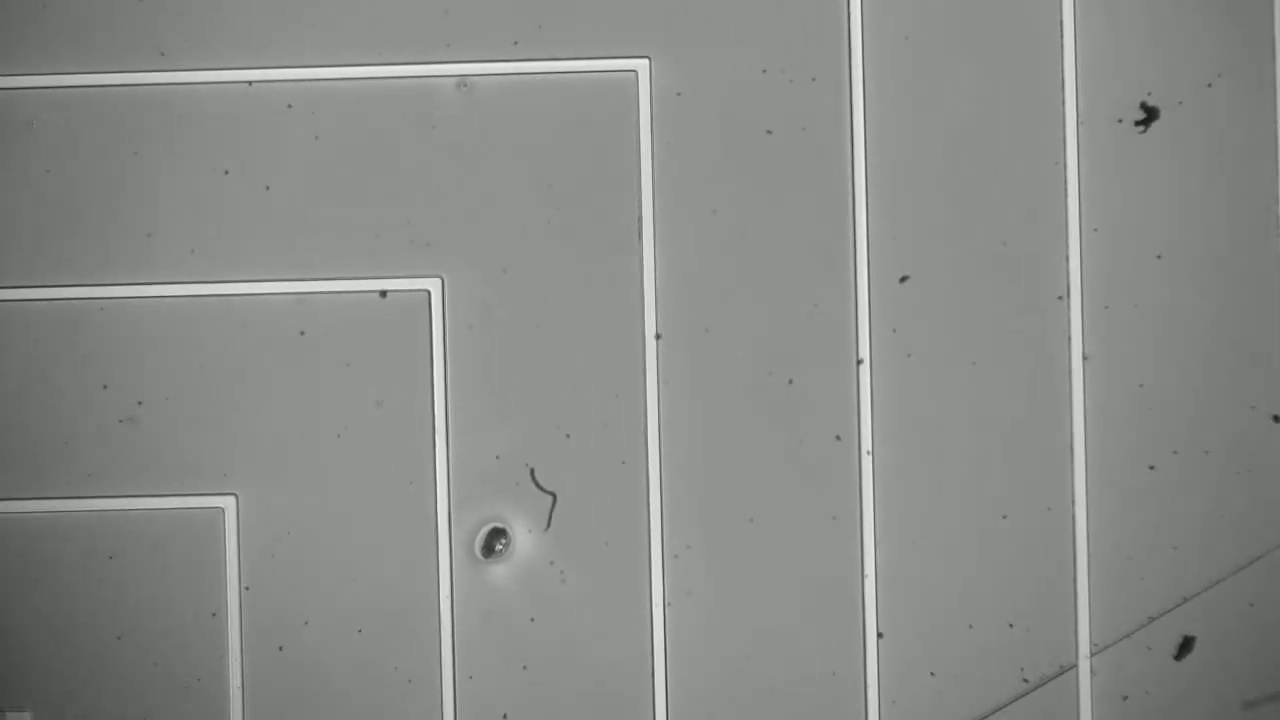scratch: (969, 533, 1264, 719)
